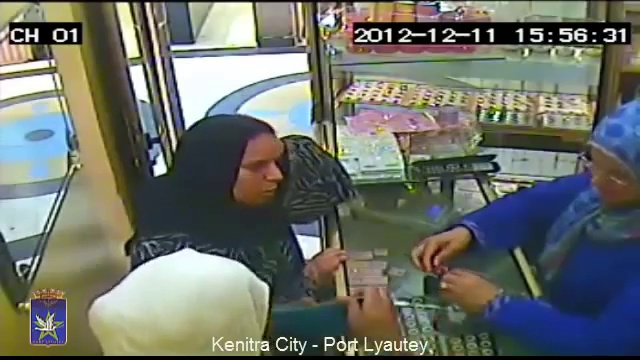face: (228, 140, 282, 206), (584, 152, 634, 206)
